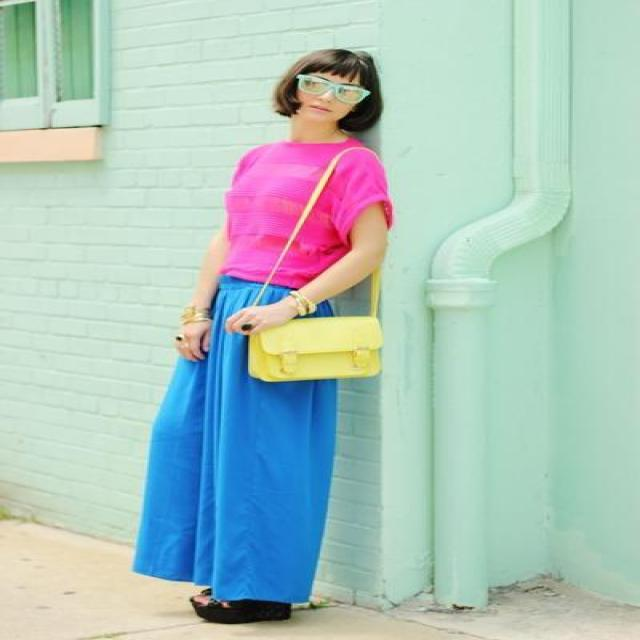bag: (225, 218, 382, 380)
shirt: (221, 141, 389, 288)
shoe: (165, 580, 286, 623)
skirt: (134, 275, 336, 603)
